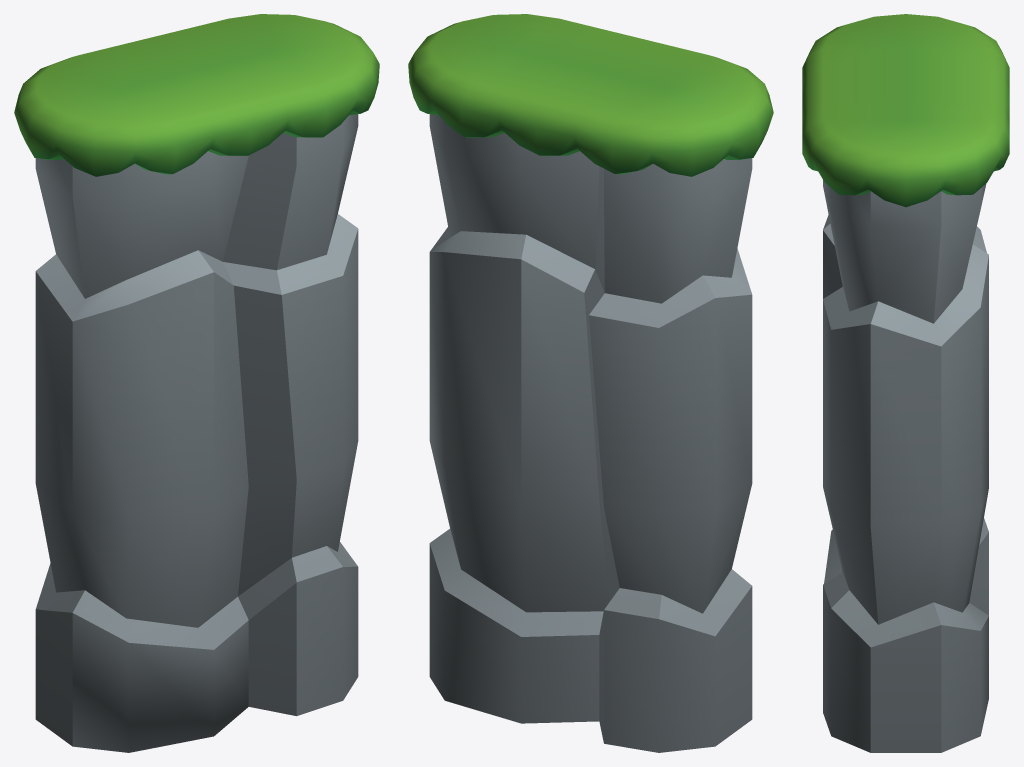
The model's file is Hill_4x2x8_Color1.gltf.
The picture shows the model from 3 angles, left to right: view 1: azimuth 30°, elevation 25°; view 2: azimuth 150°, elevation 25°; view 3: azimuth 270°, elevation 25°; orthographic projection. The views are drawn at different scales.
Parts seen in each view (by area): view 1: Hill_4x2x8_Color1; view 2: Hill_4x2x8_Color1; view 3: Hill_4x2x8_Color1.
Part boxes in pixels (<box>): Hill_4x2x8_Color1: <box>14,14,379,752</box>; Hill_4x2x8_Color1: <box>408,14,773,752</box>; Hill_4x2x8_Color1: <box>802,14,1009,752</box>.
Size of the model in its own units: 4.47 by 8 by 2.5.
1 material, 1 textured.
